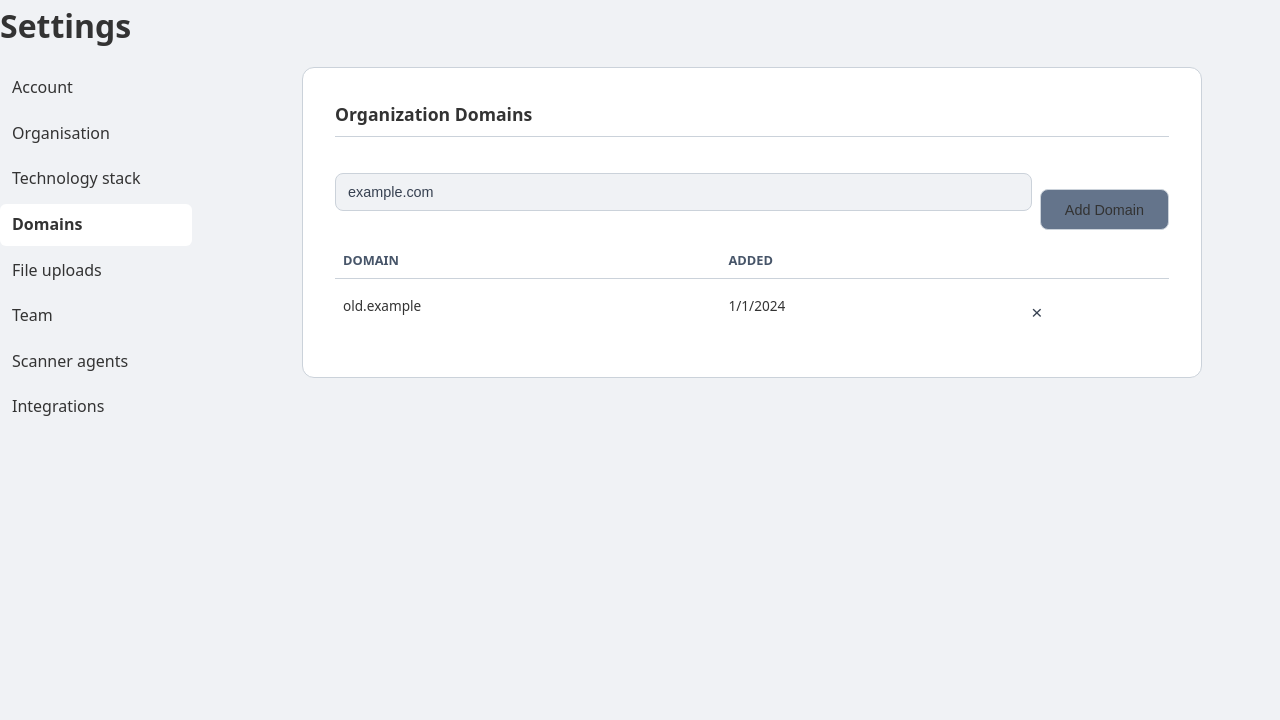
it: Domains page › delete confirmation › shows the section error and closes the dialog when the API fails
This screenshot has width=1280, height=720.
Step 1. Click the button named "Delete domain old.example" → (1037, 313), box [1026,303,1047,322]
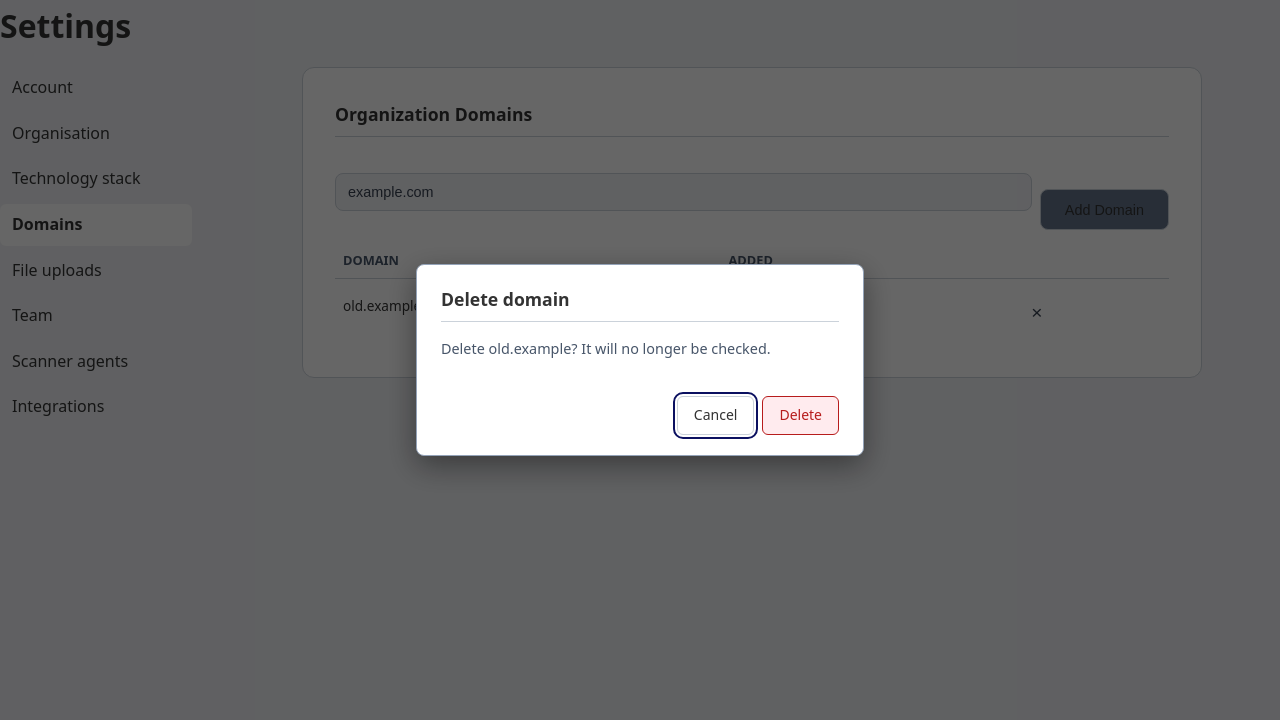
Step 2. Click the button "Delete" → (801, 415), box [762,396,839,435]
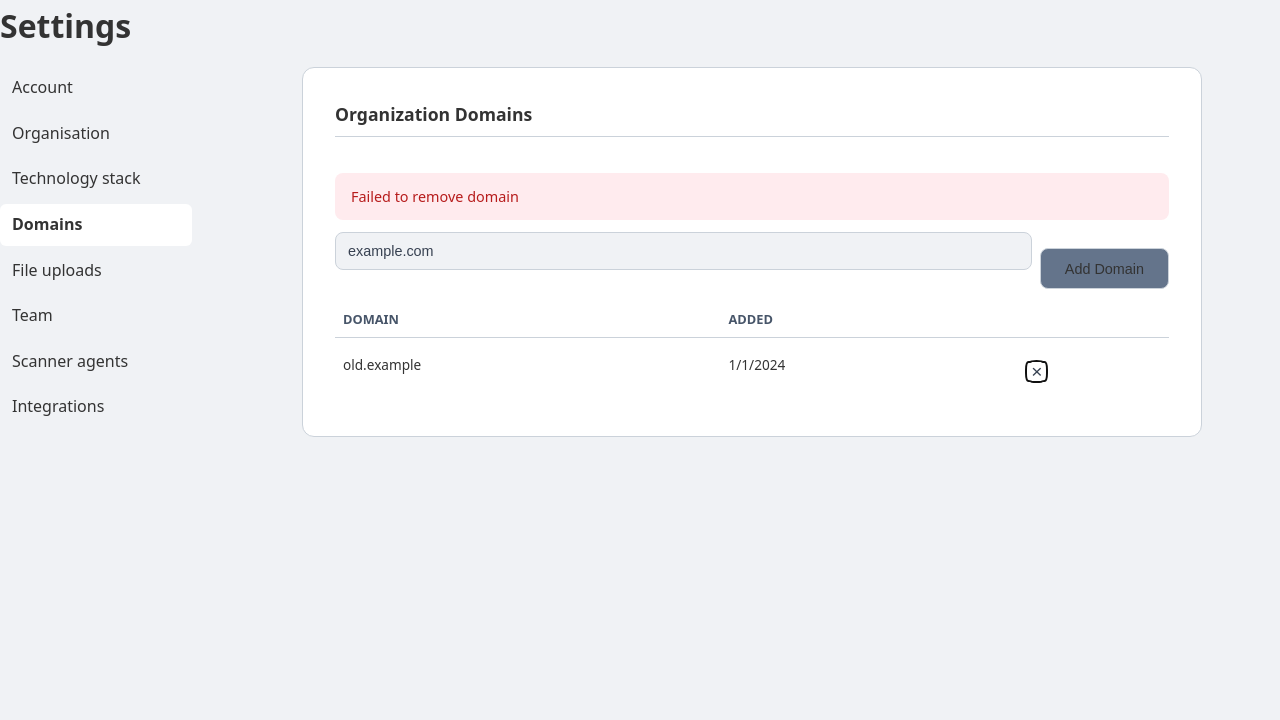
Expected: the dialog is gone
Expected: the text "Failed to remove domain" is shown, [335,173,1169,220]
